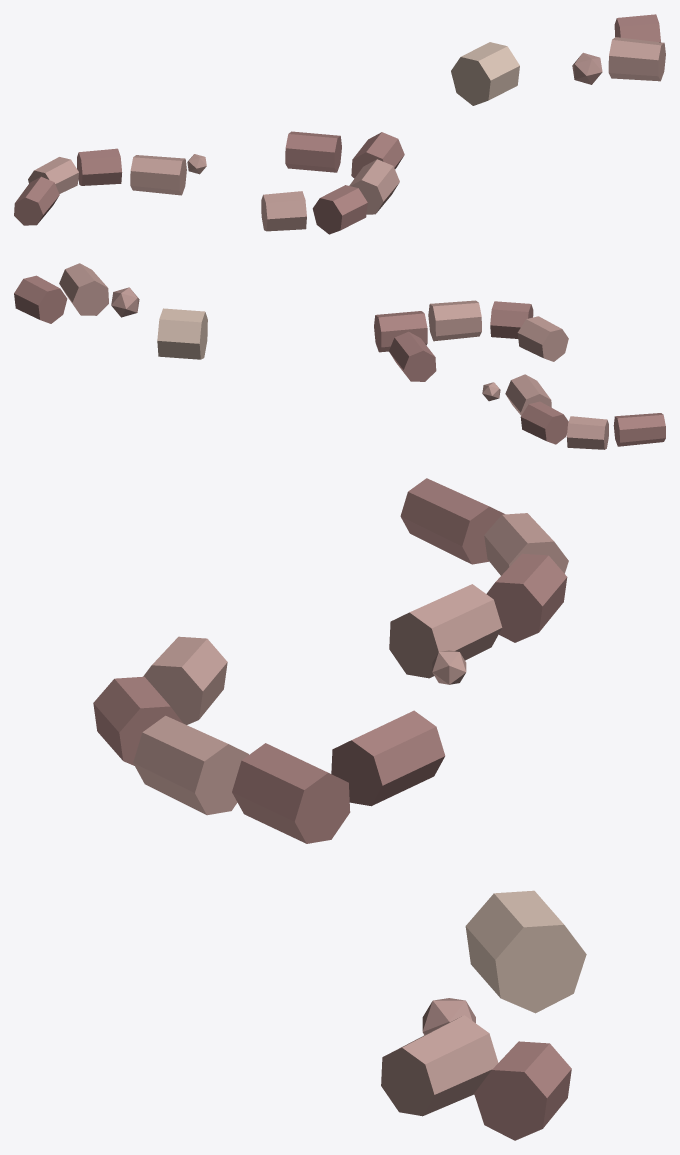
3 views of the same model, one above another, from view 1: azimuth 30°, elevation 25°; view 2: azimuth 150°, elevation 25°; view 3: azimuth 270°, elevation 25° (orthographic). The views are drawn at different scales.
Visible parts, largest first — view 1: part12, part0, part7, part8, part5, part6, part4, part9, part11, part3, part1, part10 (+1 smaller); view 2: part12, part4, part0, part1, part6, part7, part11, part3, part9, part10, part5, part8 (+1 smaller); view 3: part12, part3, part0, part4, part7, part1, part8, part11, part9, part6, part5, part10 (+2 smaller).
Boxes of the visible parts, x1,y1,x2,y2 form: part12: (451, 42, 519, 105); part0: (608, 37, 665, 81); part7: (285, 131, 341, 172); part8: (130, 155, 186, 195); part5: (312, 185, 367, 234); part6: (261, 191, 306, 231); part4: (349, 159, 399, 214); part9: (77, 148, 122, 185); part11: (14, 176, 59, 225); part3: (351, 132, 404, 178); part1: (614, 14, 660, 42); part10: (28, 157, 78, 193); part12: (157, 308, 207, 359); part4: (428, 300, 481, 341); part0: (59, 263, 108, 315); part1: (14, 275, 67, 323); part6: (517, 316, 568, 361); part7: (389, 331, 436, 381); part11: (613, 413, 665, 446); part3: (374, 311, 427, 352); part9: (520, 401, 568, 444); part10: (566, 416, 608, 449); part5: (490, 301, 533, 338); part8: (505, 374, 551, 415); part12: (465, 890, 586, 1013); part3: (232, 743, 350, 843); part0: (381, 1015, 498, 1116); part4: (133, 715, 248, 815); part7: (331, 710, 445, 806); part1: (474, 1041, 571, 1140); part8: (389, 584, 502, 678); part11: (400, 478, 504, 564); part9: (486, 553, 567, 642); part6: (143, 636, 227, 724); part5: (93, 676, 183, 765); part10: (484, 513, 568, 575).
Size of the model in its own units: 10.09 by 0.6767 by 3.44.
